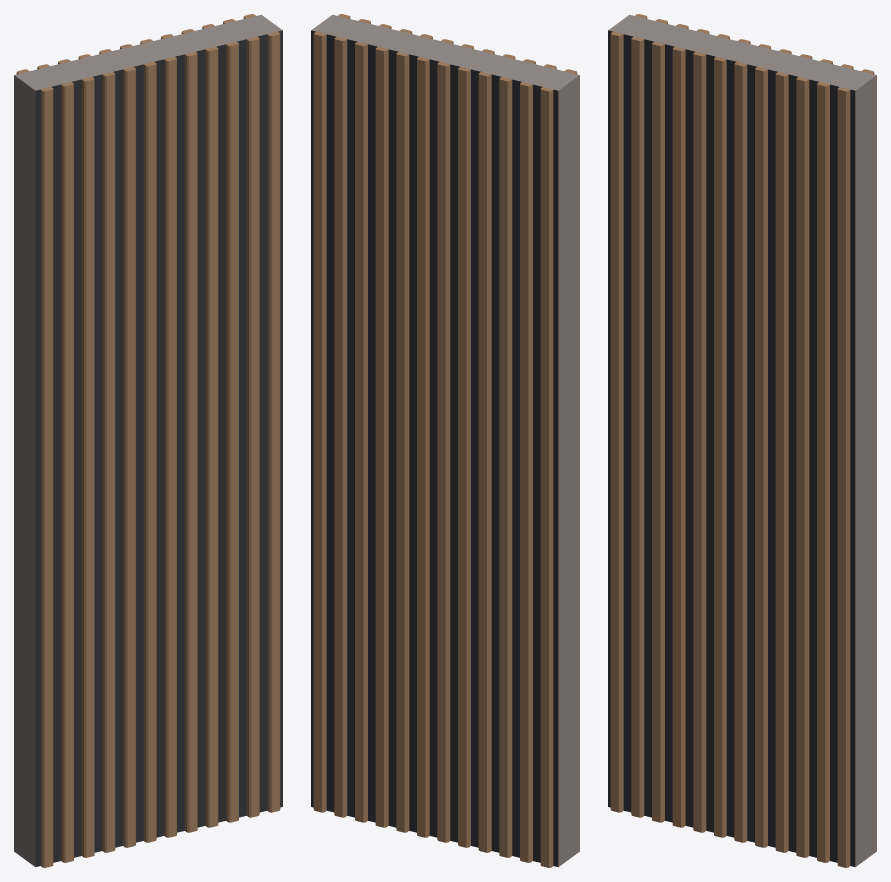
Rendered from internal-partition-wall-1m-39f3de.glb.
3 renders of one model, left to right at view 1: azimuth 30°, elevation 25°; view 2: azimuth 150°, elevation 25°; view 3: azimuth 330°, elevation 25°, orthographic.
Parts seen in each view (by area): view 1: partition, joint-ends; view 2: partition, joint-ends; view 3: partition, joint-ends.
Part boxes in pixels (box(x1,y1,x2,y2)): partition: box(14, 14, 282, 867); joint-ends: box(14, 75, 35, 866); partition: box(311, 14, 579, 867); joint-ends: box(558, 75, 579, 866); partition: box(608, 14, 876, 867); joint-ends: box(855, 75, 876, 866).
Size of the model in its own units: 1 by 3 by 0.194.
